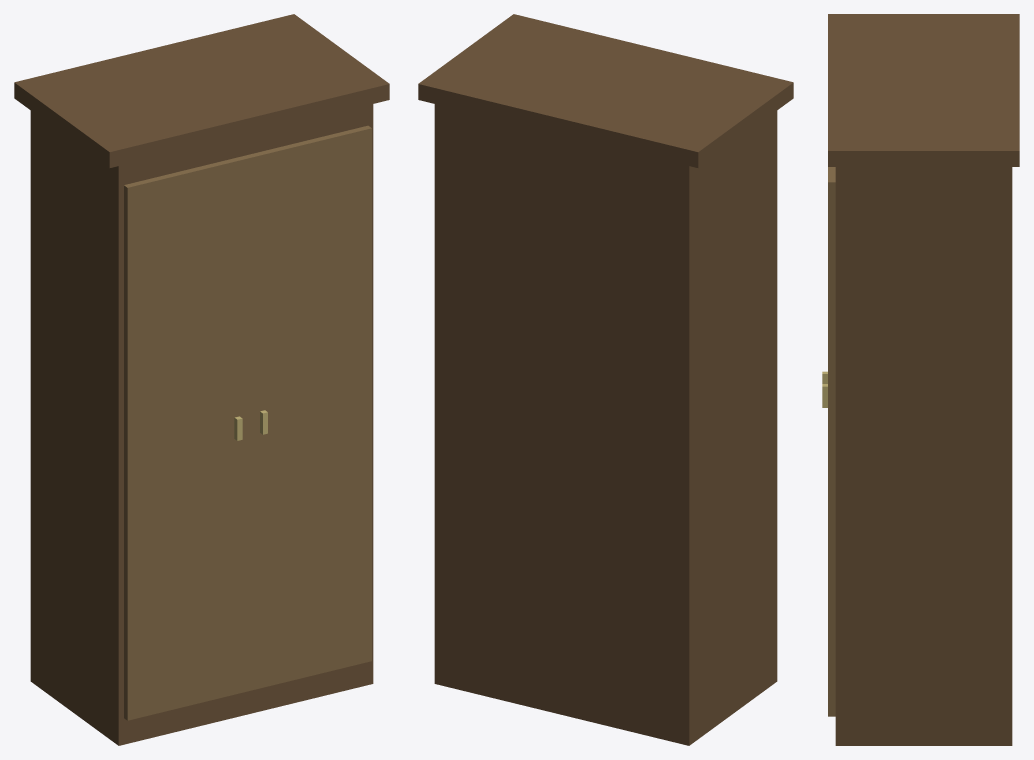
The model's file is wardrobe.glb.
3 renders of one model, left to right at view 1: azimuth 30°, elevation 25°; view 2: azimuth 150°, elevation 25°; view 3: azimuth 270°, elevation 25°, orthographic.
Bounding box in the file's own units: 1.1 × 2.25 × 0.67.
